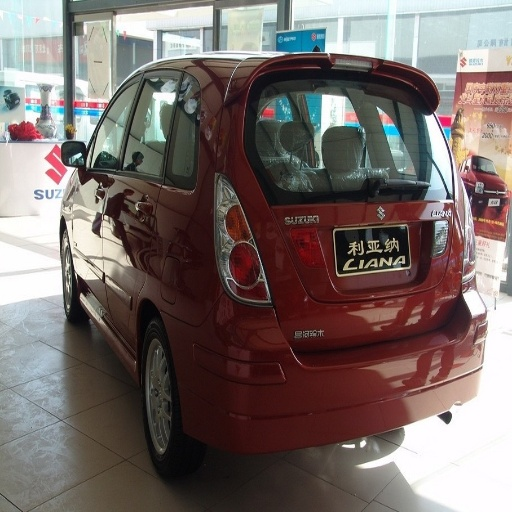back_bumper: (184, 251, 481, 451)
back_glass: (260, 69, 442, 190)
back_left_door: (164, 70, 196, 189)
back_left_light: (220, 221, 272, 303)
front_right_door: (103, 228, 125, 332)
tailgate: (254, 233, 342, 347), (301, 266, 420, 307)
trunk: (264, 186, 449, 349)
